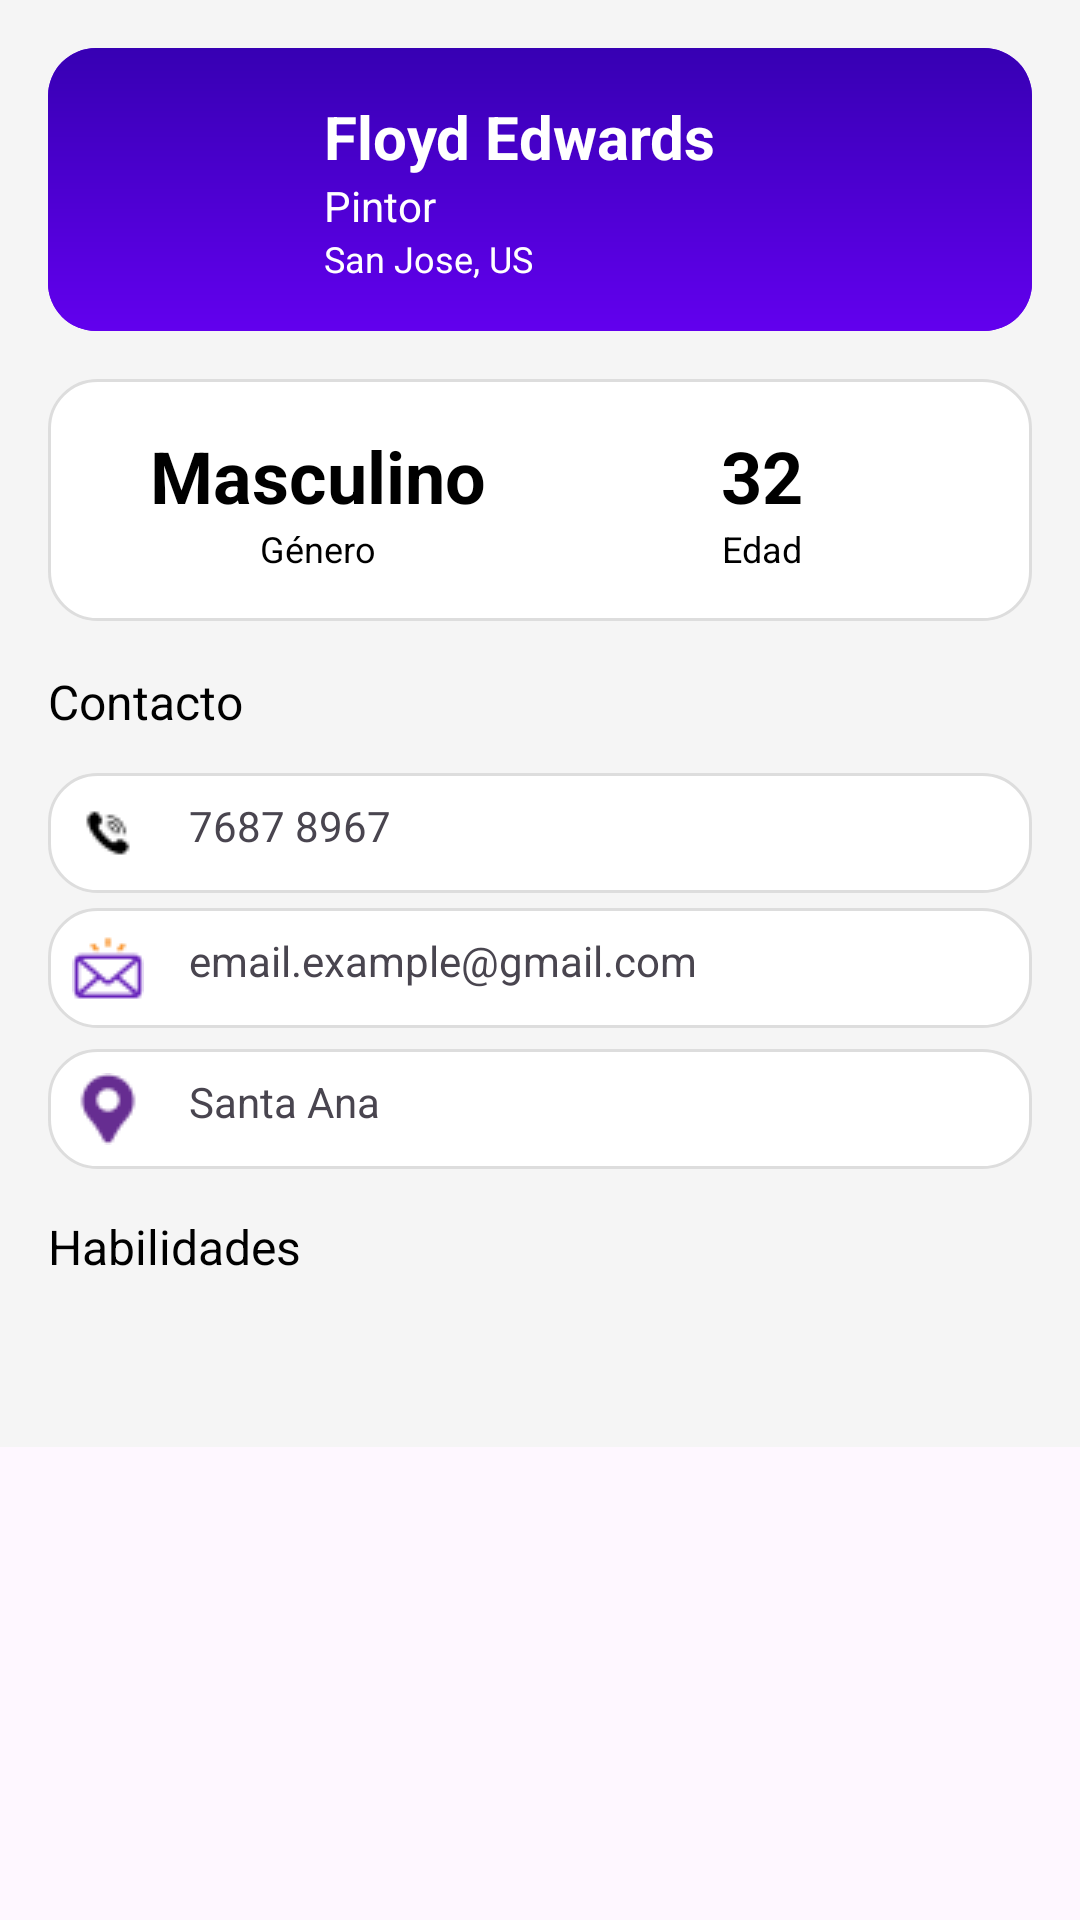

Point at icon controls on the screen. Image size 1080 × 1920, points as (x=x, y=y).
address icon: (x=108, y=1108)
phone: (x=108, y=833)
